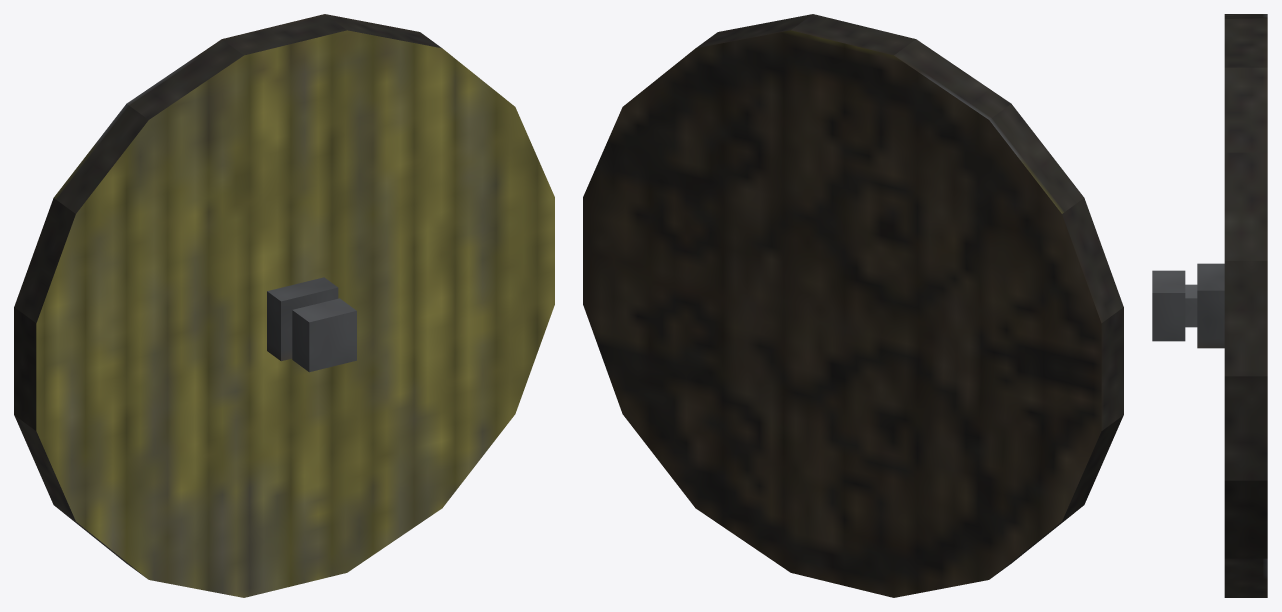
The model's file is hobbit_door_3x3_yellow.obj.
3 renders of one model, left to right at view 1: azimuth 30°, elevation 25°; view 2: azimuth 150°, elevation 25°; view 3: azimuth 270°, elevation 25°, orthographic. The views are drawn at different scales.
Visible parts, largest first — view 1: cylinder, cube; view 2: cylinder; view 3: cylinder, cube.
Part boxes in pixels (box(x1,y1,x2,y2)): cylinder: box(14, 14, 554, 597); cube: box(267, 277, 356, 372); cylinder: box(583, 14, 1123, 597); cylinder: box(1224, 14, 1267, 597); cube: box(1152, 263, 1224, 348).
Size of the model in its own units: 2.57 by 2.57 by 0.5123.
